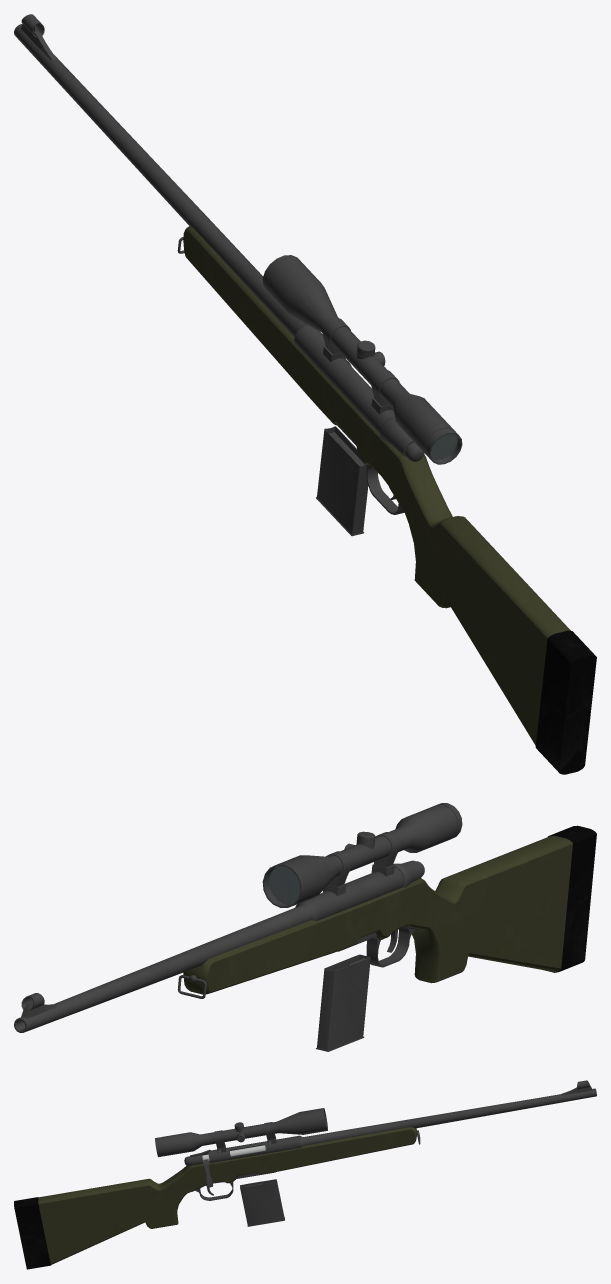
Rendered from Sniper.glb.
3 views of the same model, one above another, from view 1: azimuth 30°, elevation 25°; view 2: azimuth 150°, elevation 25°; view 3: azimuth 270°, elevation 25° (orthographic). The views are drawn at different scales.
Parts seen in each view (by area): view 1: Barrel; view 2: Barrel; view 3: Barrel.
Boxes of the visible parts, x1,y1,x2,y2 form: Barrel: [14, 14, 596, 774]; Barrel: [14, 803, 596, 1051]; Barrel: [14, 1080, 596, 1269].
Bounding box in the file's own units: 0.0568 × 0.3966 × 1.12.
Materials: 1 (1 with a texture image).
